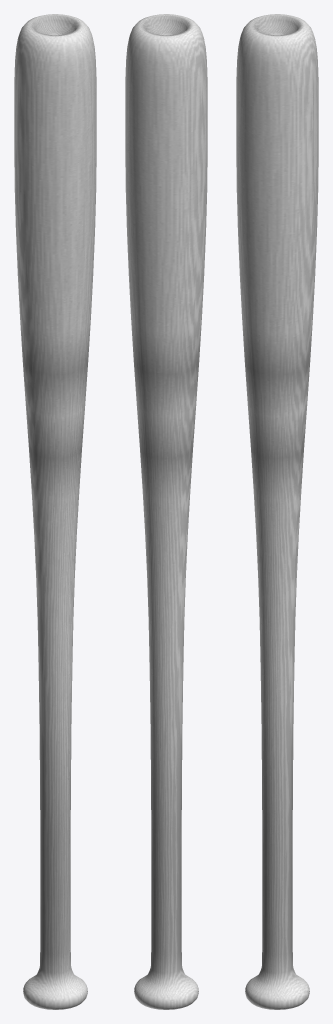
Rendered from bat.86f0384345.glb.
3 views of the same model, side by side, from view 1: azimuth 30°, elevation 25°; view 2: azimuth 150°, elevation 25°; view 3: azimuth 330°, elevation 25° (orthographic).
Visible parts, largest first — view 1: bat_LOD0; view 2: bat_LOD0; view 3: bat_LOD0.
Boxes of the visible parts, bbox=[...] form: bat_LOD0: bbox=[14, 14, 96, 1009]; bat_LOD0: bbox=[125, 14, 207, 1009]; bat_LOD0: bbox=[236, 14, 318, 1009].
Size of what is drawn, in the model's own units: 0.2163 by 2.82 by 0.2163.
1 material, 1 textured.
